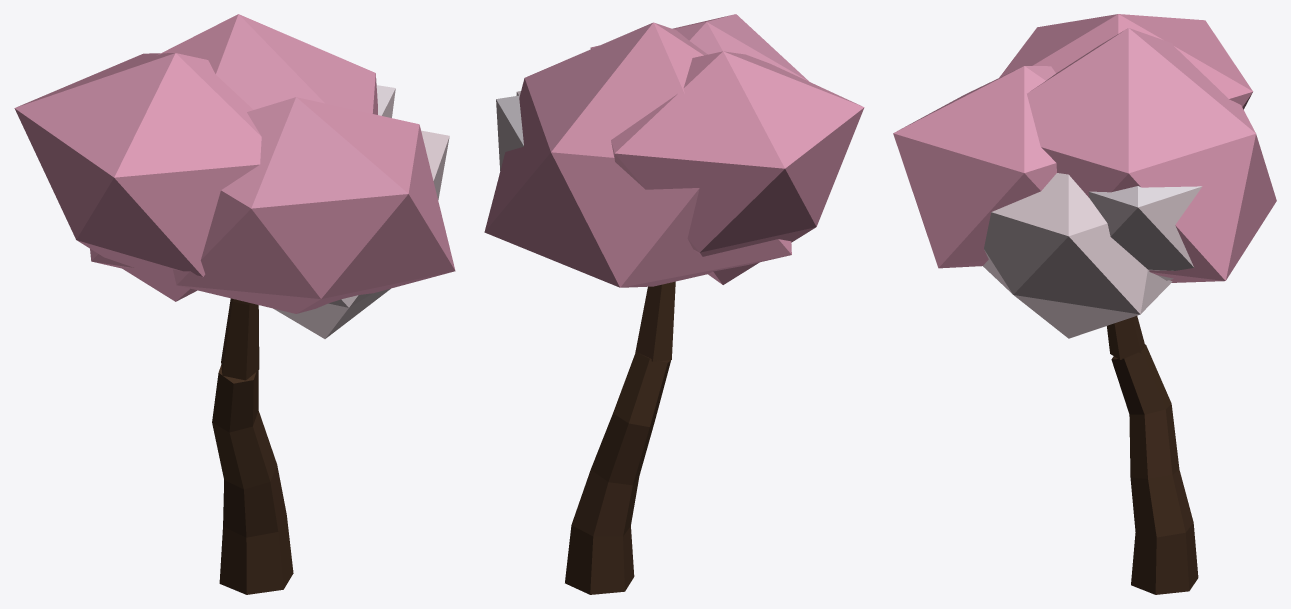
The model's file is Tree_Blossom_B.glb.
3 renders of one model, left to right at view 1: azimuth 30°, elevation 25°; view 2: azimuth 150°, elevation 25°; view 3: azimuth 270°, elevation 25°, orthographic. The views are drawn at different scales.
Visible parts, largest first — view 1: Tree_Blossom_B; view 2: Tree_Blossom_B; view 3: Tree_Blossom_B.
Boxes of the visible parts, x1,y1,x2,y2 form: Tree_Blossom_B: (14,14,455,594); Tree_Blossom_B: (484,14,864,594); Tree_Blossom_B: (893,14,1276,594).
Size of the model in its own units: 2.39 by 3.73 by 2.42.
